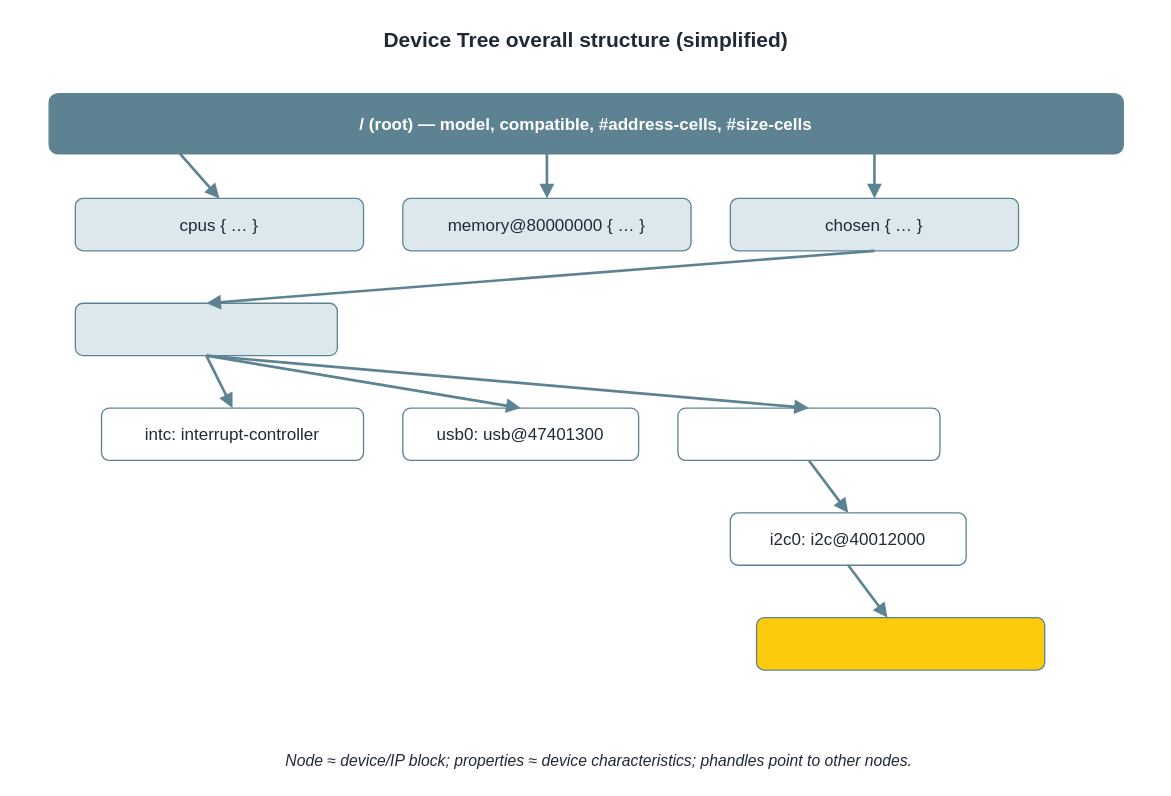
This 1171x796 diagram has some shape labels left out. Here are the shapes that lost their labels. From the top down, the centre of each, then its label:
At point (205, 329): "ocp { … }".
At point (808, 433): "l4_per: interconnect".
At point (900, 643): "eeprom@50 (I2C device)".
